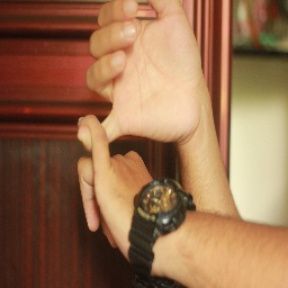S: (66, 2, 231, 255)
